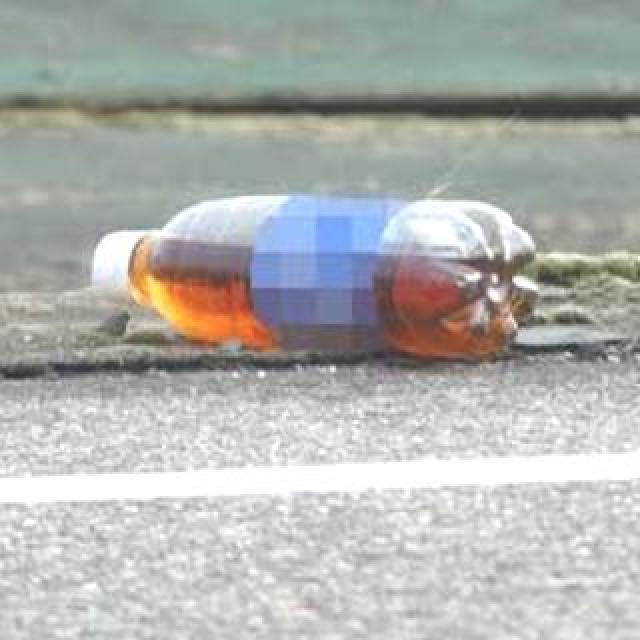Pet_Bottle: (90, 195, 544, 355)
